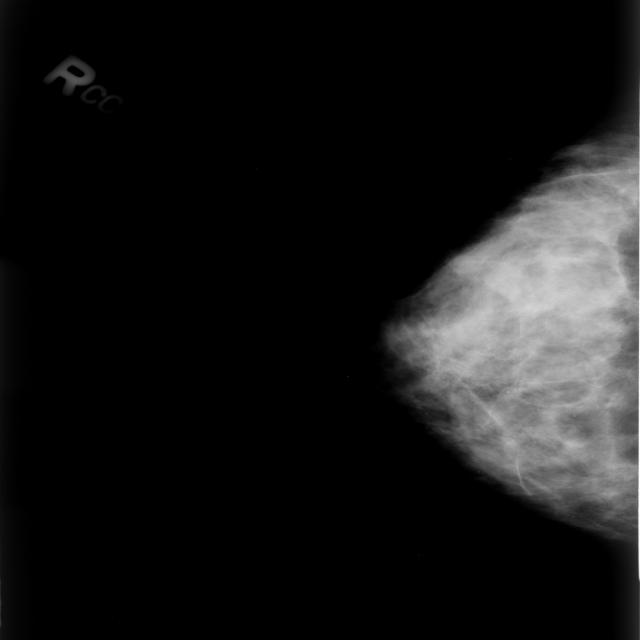normal: (376, 127, 640, 637)
